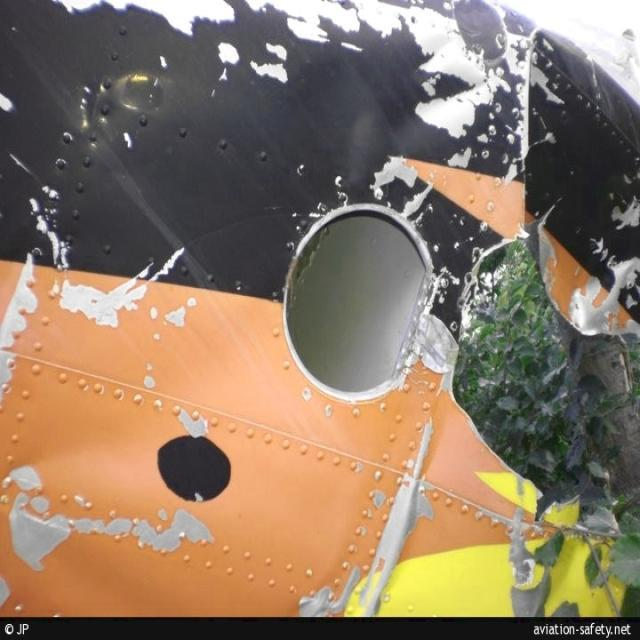dent: (8, 425, 170, 498), (339, 110, 376, 188), (391, 113, 423, 154)
